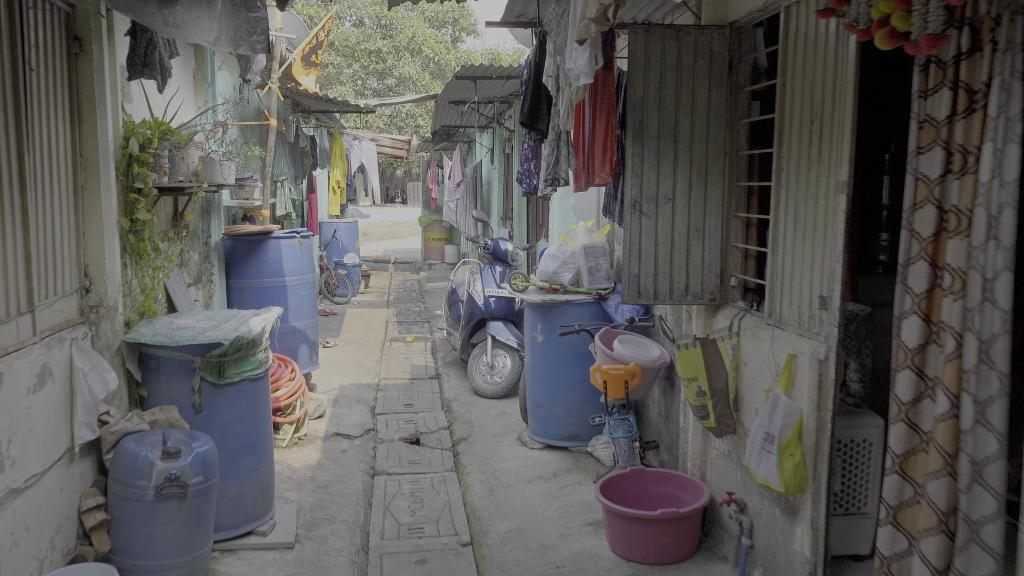garbage: (577, 222, 616, 291), (532, 238, 584, 289)
